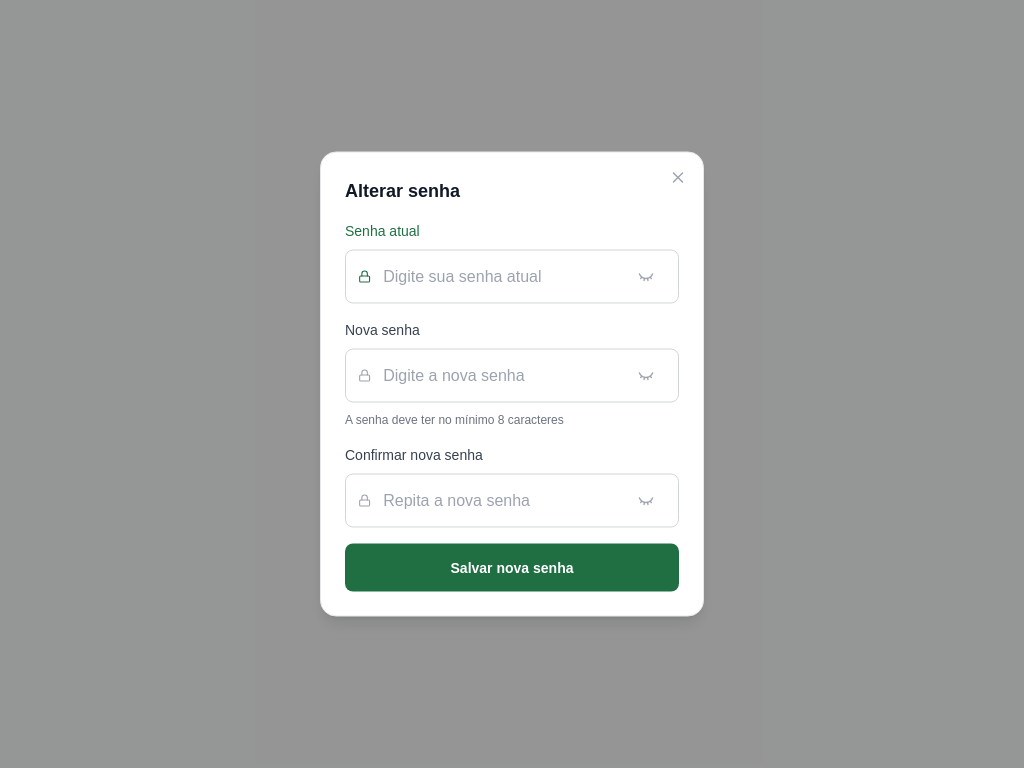
Scenario: ChangePasswordDialog › acusa quando a confirmação não coincide com a nova senha
Type "senha-atual" into the password field labelled "Senha atual" at (511, 276), box [383,264,638,288]
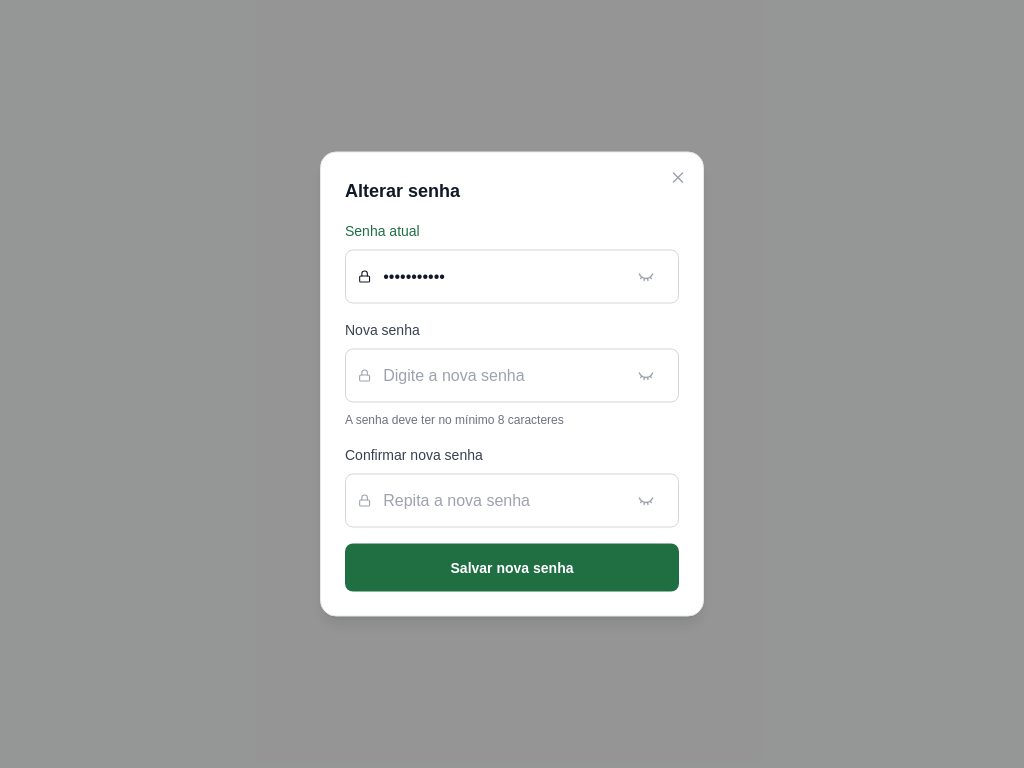
Type "novaSenha123" into the password field labelled "Nova senha" at (511, 376), box [383,364,638,388]
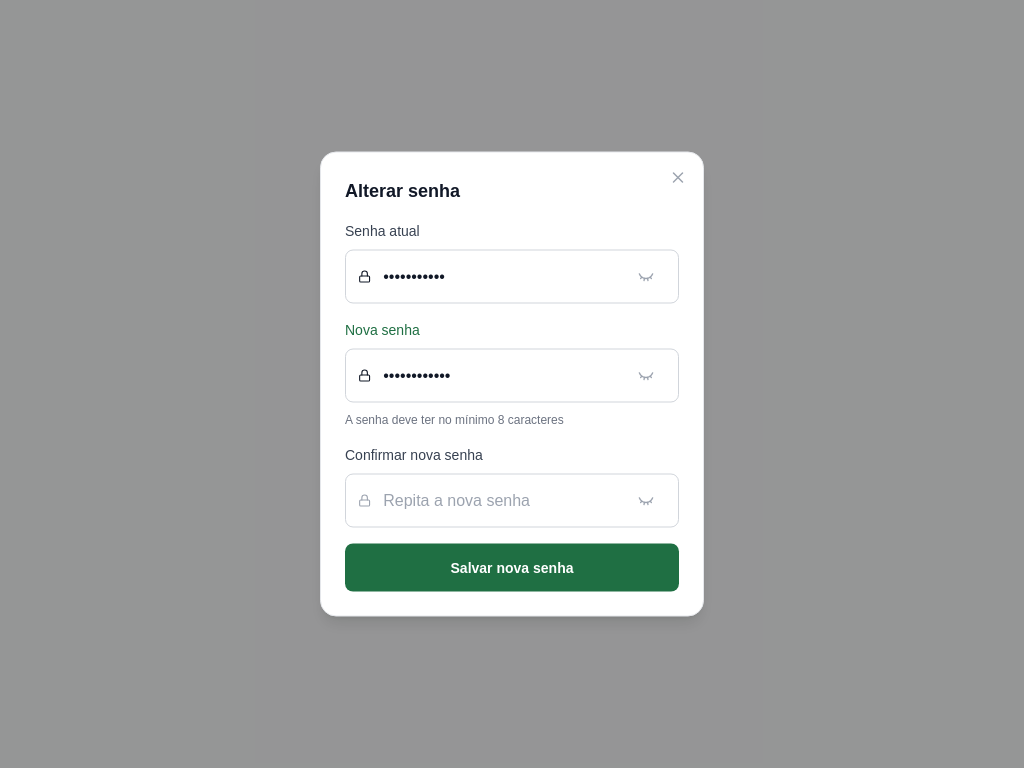
Type "outraCoisa999" into the password field labelled "Confirmar nova senha" at (511, 500), box [383,488,638,512]
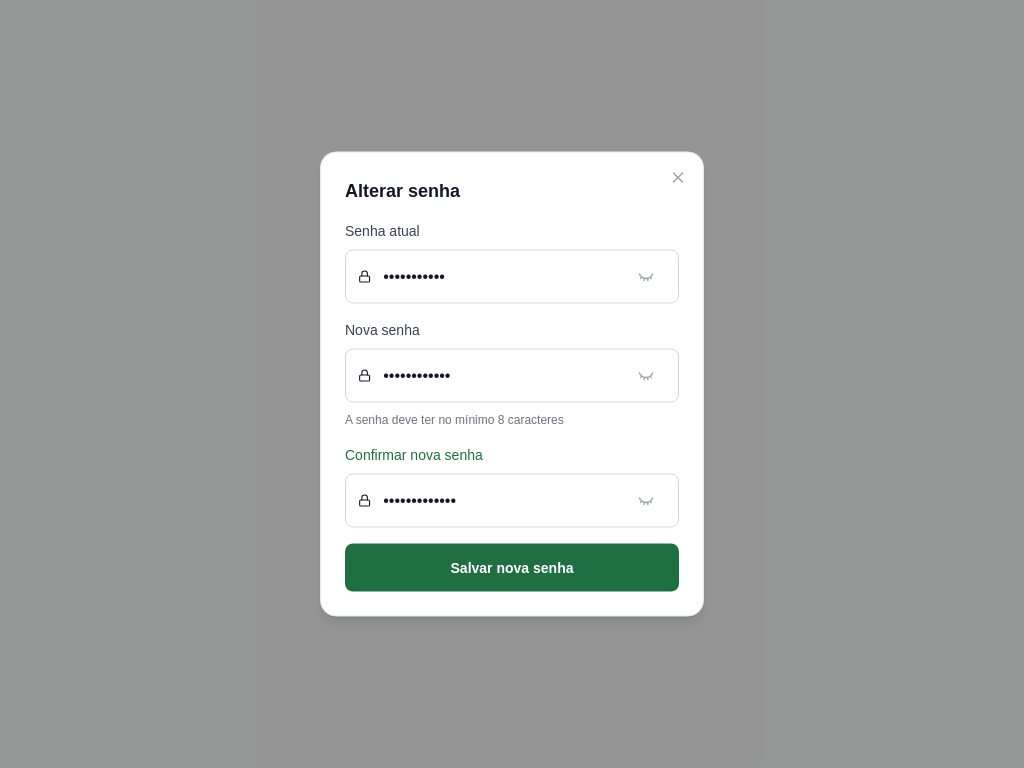
Click the button "Salvar nova senha" at (512, 568), box [345,544,679,592]
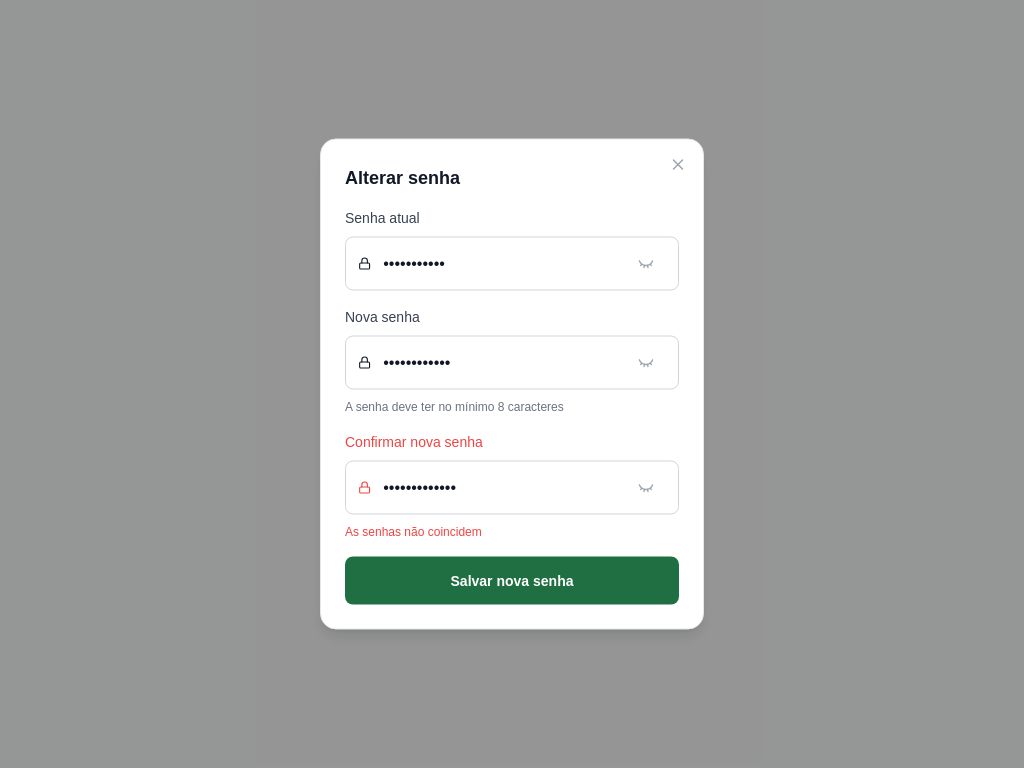
Check: the text "As senhas não coincidem" is shown, box [345,524,482,538]
